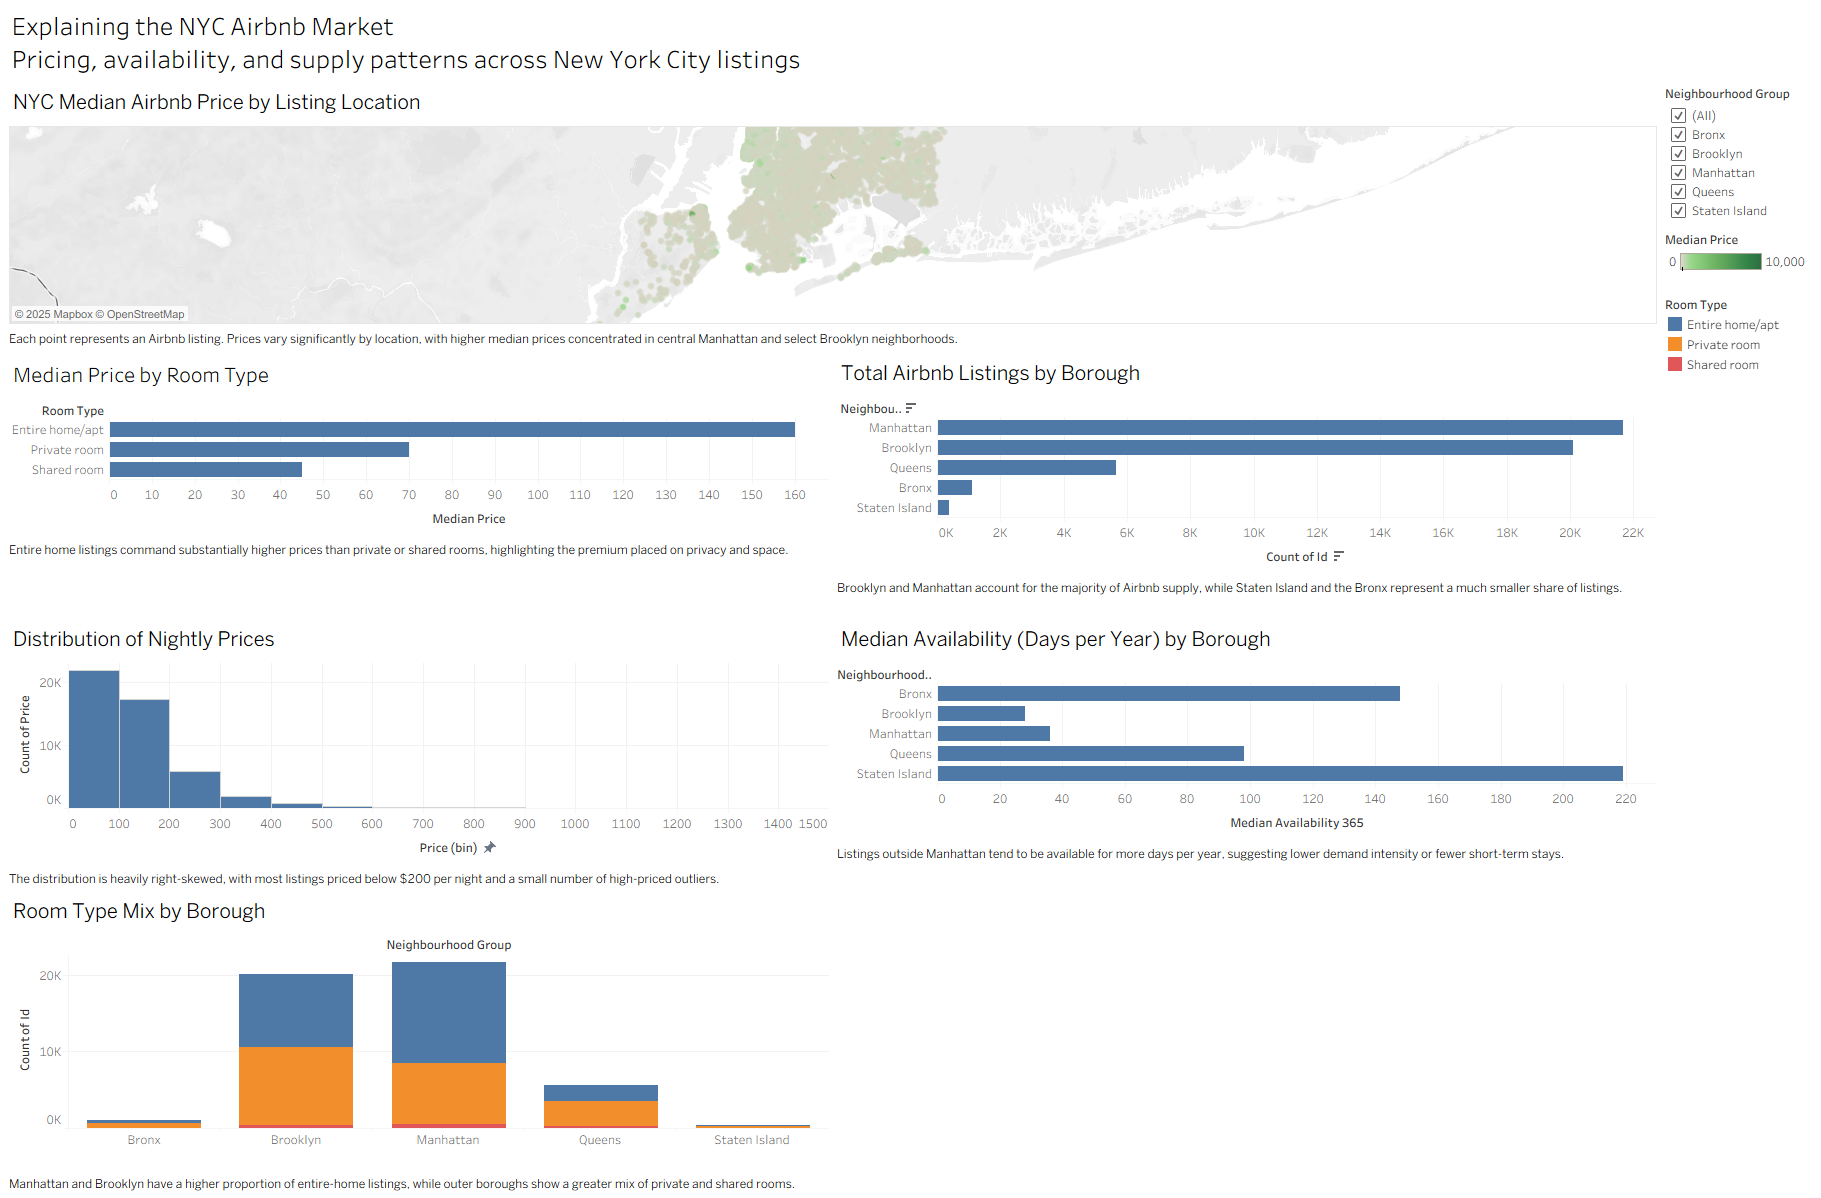

What the dashboard file says about the page in this screenshot:
{"tool":"tableau","page":{"name":"Dashboard 1","canvas":[1000,1000],"units":"permille","ordinal":0},"visuals":[{"type":"title","box":[4.4,6.6,991.2,63]},{"type":"worksheet","title":"Sheet 1","mark":"Circle","rows":["latitude"],"cols":["longitude"],"box":[4.4,69.6,907.4,224.3]},{"type":"filter","title":"Sheet 1","param":"[federated.1li8fko0r9od3k11xm7sx0wzk40a].[none:neighbourhood_group:nk]","box":[911.8,69.6,83.8,121]},{"type":"legend","title":"Sheet 1","param":"[federated.1li8fko0r9od3k11xm7sx0wzk40a].[med:price:qk]","box":[911.8,190.6,83.8,53.9]},{"type":"legend","title":"Sheet 6","param":"[federated.1li8fko0r9od3k11xm7sx0wzk40a].[none:room_type:nk]","box":[911.8,244.4,83.8,71.2]},{"type":"worksheet","title":"Sheet 2","mark":"Automatic","rows":["room_type"],"cols":["price"],"box":[4.4,293.9,453.6,220.3]},{"type":"worksheet","title":"Sheet 3","mark":"Automatic","rows":["neighbourhood_group"],"cols":["id"],"box":[458,293.9,453.8,220.3]},{"type":"worksheet","title":"Sheet 4","mark":"Automatic","rows":["price"],"cols":["Price (bin)"],"box":[4.4,514.2,453.6,225.9]},{"type":"worksheet","title":"Sheet 5","mark":"Automatic","rows":["neighbourhood_group"],"cols":["availability_365"],"box":[458,514.2,453.8,479.2]},{"type":"worksheet","title":"Sheet 6","mark":"Automatic","rows":["id"],"cols":["neighbourhood_group"],"box":[4.4,740.1,453.6,253.3]}]}

Visuals, with their boxes on the dashboard's canvas, which has no fixed pixel size, in thousandths of its width and height (x1, y1, x2, y2). These are canvas units, not pixel positions in the 1821x1198 screenshot, which may show the page scaled, cropped or inside an application window:
title: detection(4, 7, 996, 70)
"Sheet 1" worksheet (Circle marks): detection(4, 70, 912, 294)
"Sheet 1" filter: detection(912, 70, 996, 191)
"Sheet 1" legend: detection(912, 191, 996, 244)
"Sheet 6" legend: detection(912, 244, 996, 316)
"Sheet 2" worksheet: detection(4, 294, 458, 514)
"Sheet 3" worksheet: detection(458, 294, 912, 514)
"Sheet 4" worksheet: detection(4, 514, 458, 740)
"Sheet 5" worksheet: detection(458, 514, 912, 993)
"Sheet 6" worksheet: detection(4, 740, 458, 993)
